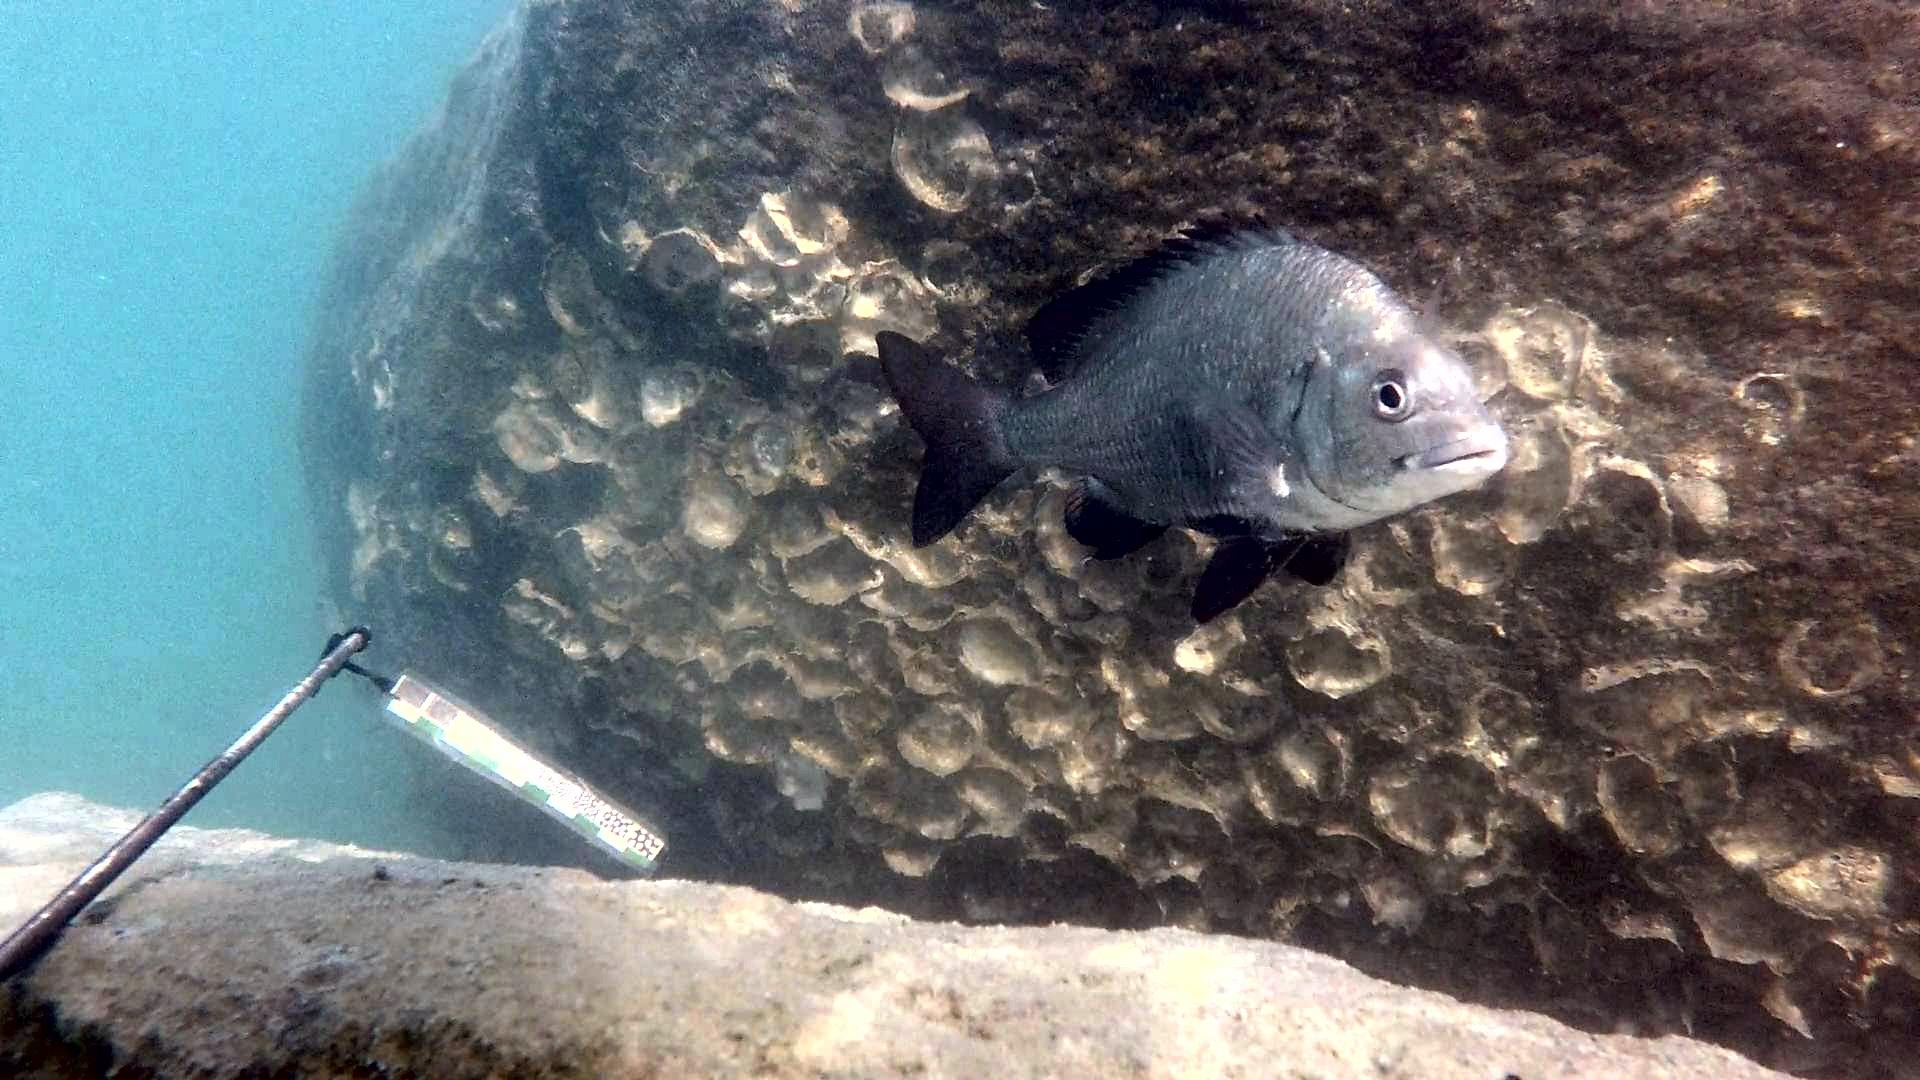acanthopagrus palmaris: (873, 208, 1512, 631)
